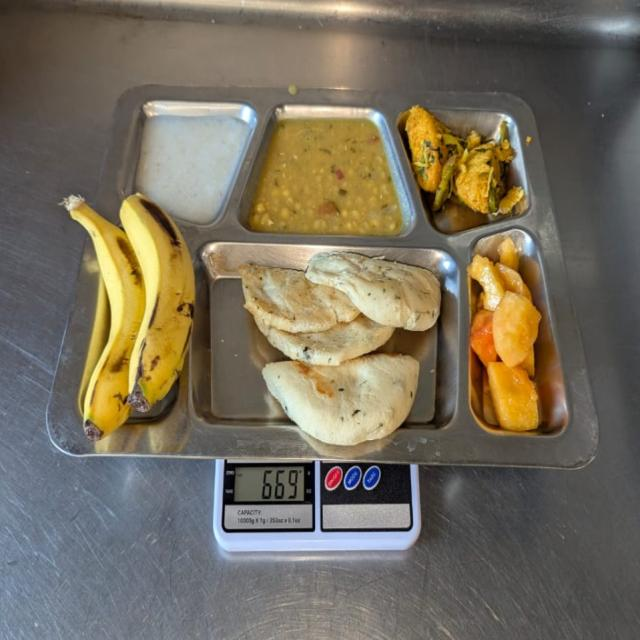Banana: (62, 187, 200, 433)
Bread: (407, 107, 530, 220)
Dal: (246, 111, 403, 233)
Idli: (238, 252, 442, 446)
Papaya: (471, 234, 548, 436)
Porridge: (133, 112, 248, 220)
